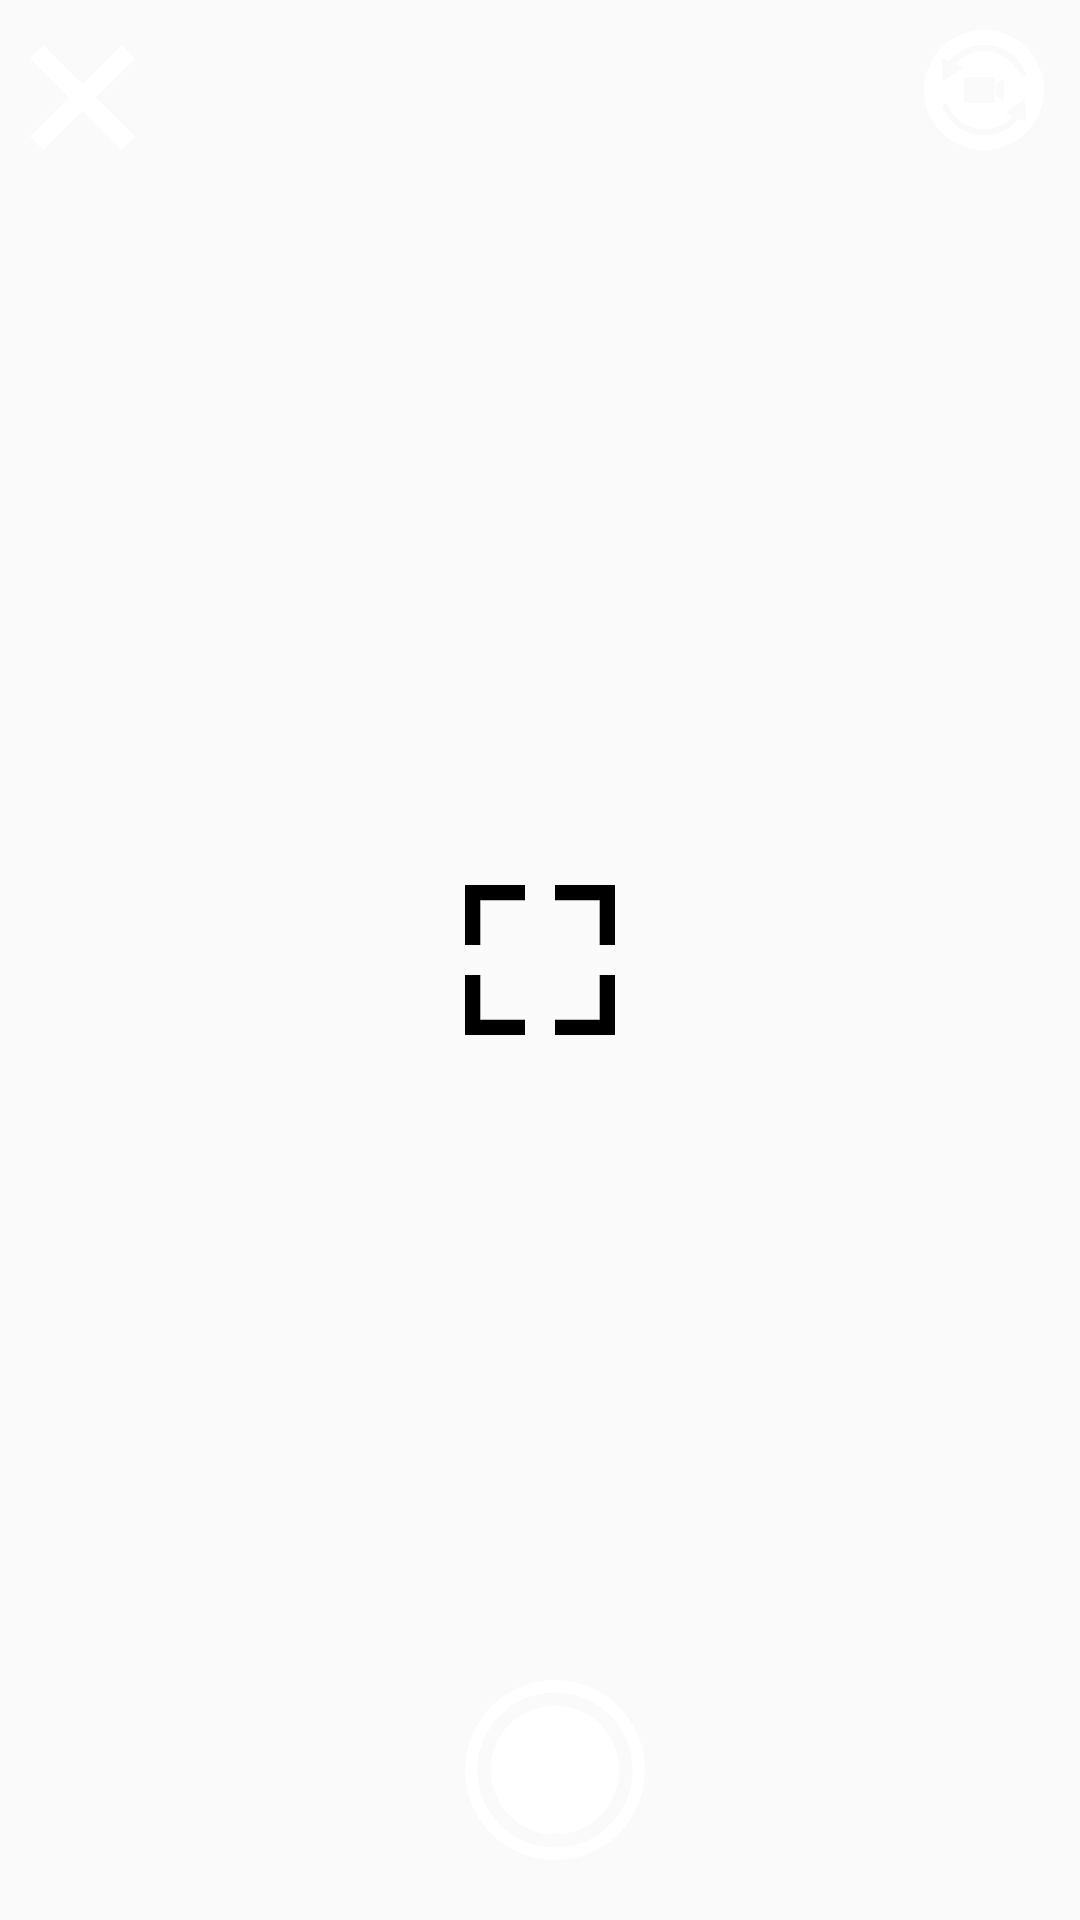

Icon bounding boxes for this 1080*1920 phone screenshot, format (x1, y1, x2, y2):
kameraruta: (465, 885, 615, 1035)
